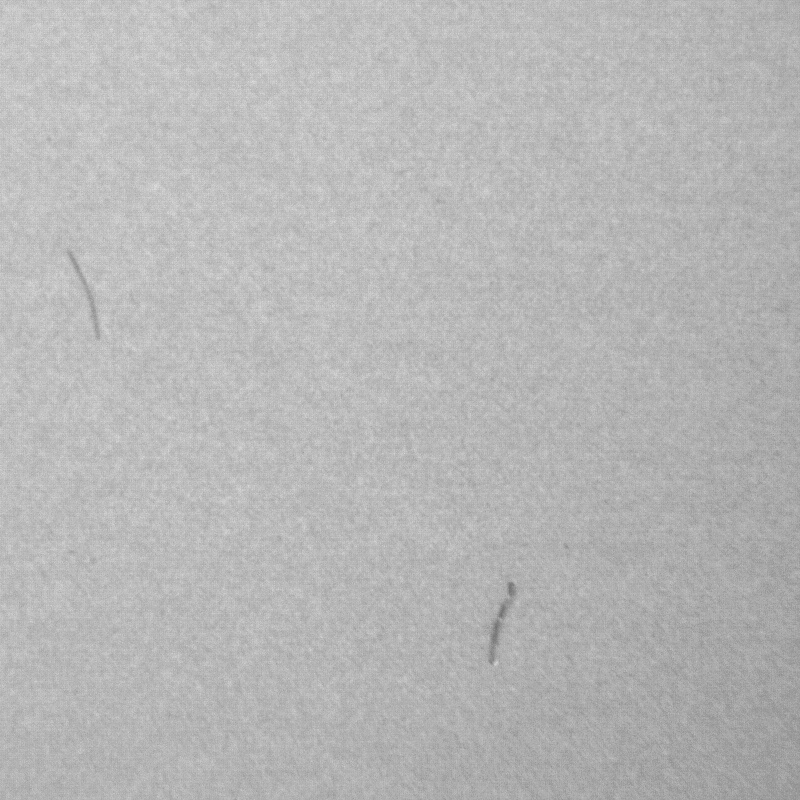defect: (61, 247, 106, 346), (489, 579, 516, 667)
